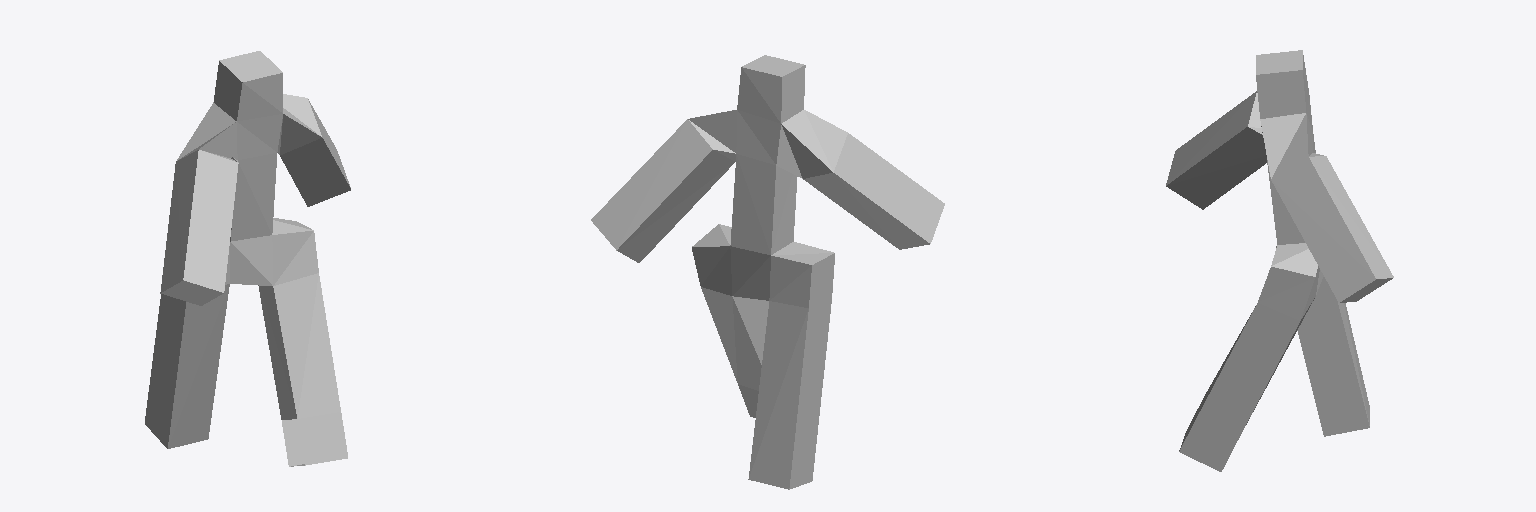
The model's file is cuboid_000015.obj.
3 views of the same model, side by side, from view 1: azimuth 30°, elevation 25°; view 2: azimuth 150°, elevation 25°; view 3: azimuth 270°, elevation 25° (orthographic).
Visible parts, largest first — view 1: Cube; view 2: Cube; view 3: Cube.
Boxes of the visible parts, box(x1,y1,x2,y2) form: Cube: box(145, 51, 350, 466); Cube: box(591, 55, 944, 489); Cube: box(1166, 50, 1393, 471).
Bounding box in the file's own units: 3.16 × 4.52 × 2.42.